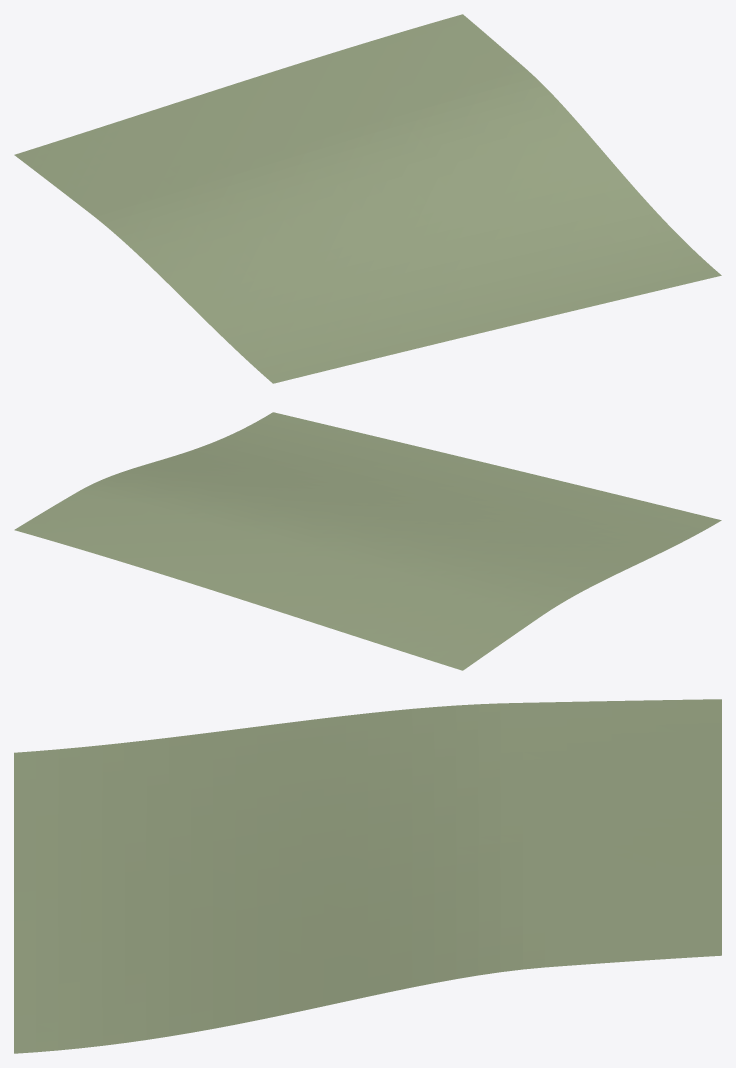
The model's file is valley-14-7.glb.
The picture shows the model from 3 angles, top to bottom: view 1: azimuth 30°, elevation 25°; view 2: azimuth 150°, elevation 25°; view 3: azimuth 270°, elevation 25°; orthographic projection. The views are drawn at different scales.
Parts seen in each view (by area): view 1: valley-14-7; view 2: valley-14-7; view 3: valley-14-7.
Part boxes in pixels (x1=…): valley-14-7: x1=14, y1=14, x2=721, y2=383; valley-14-7: x1=14, y1=412, x2=721, y2=670; valley-14-7: x1=14, y1=699, x2=721, y2=1053.
Bounding box in the file's own units: 256 × 39.11 × 256.
